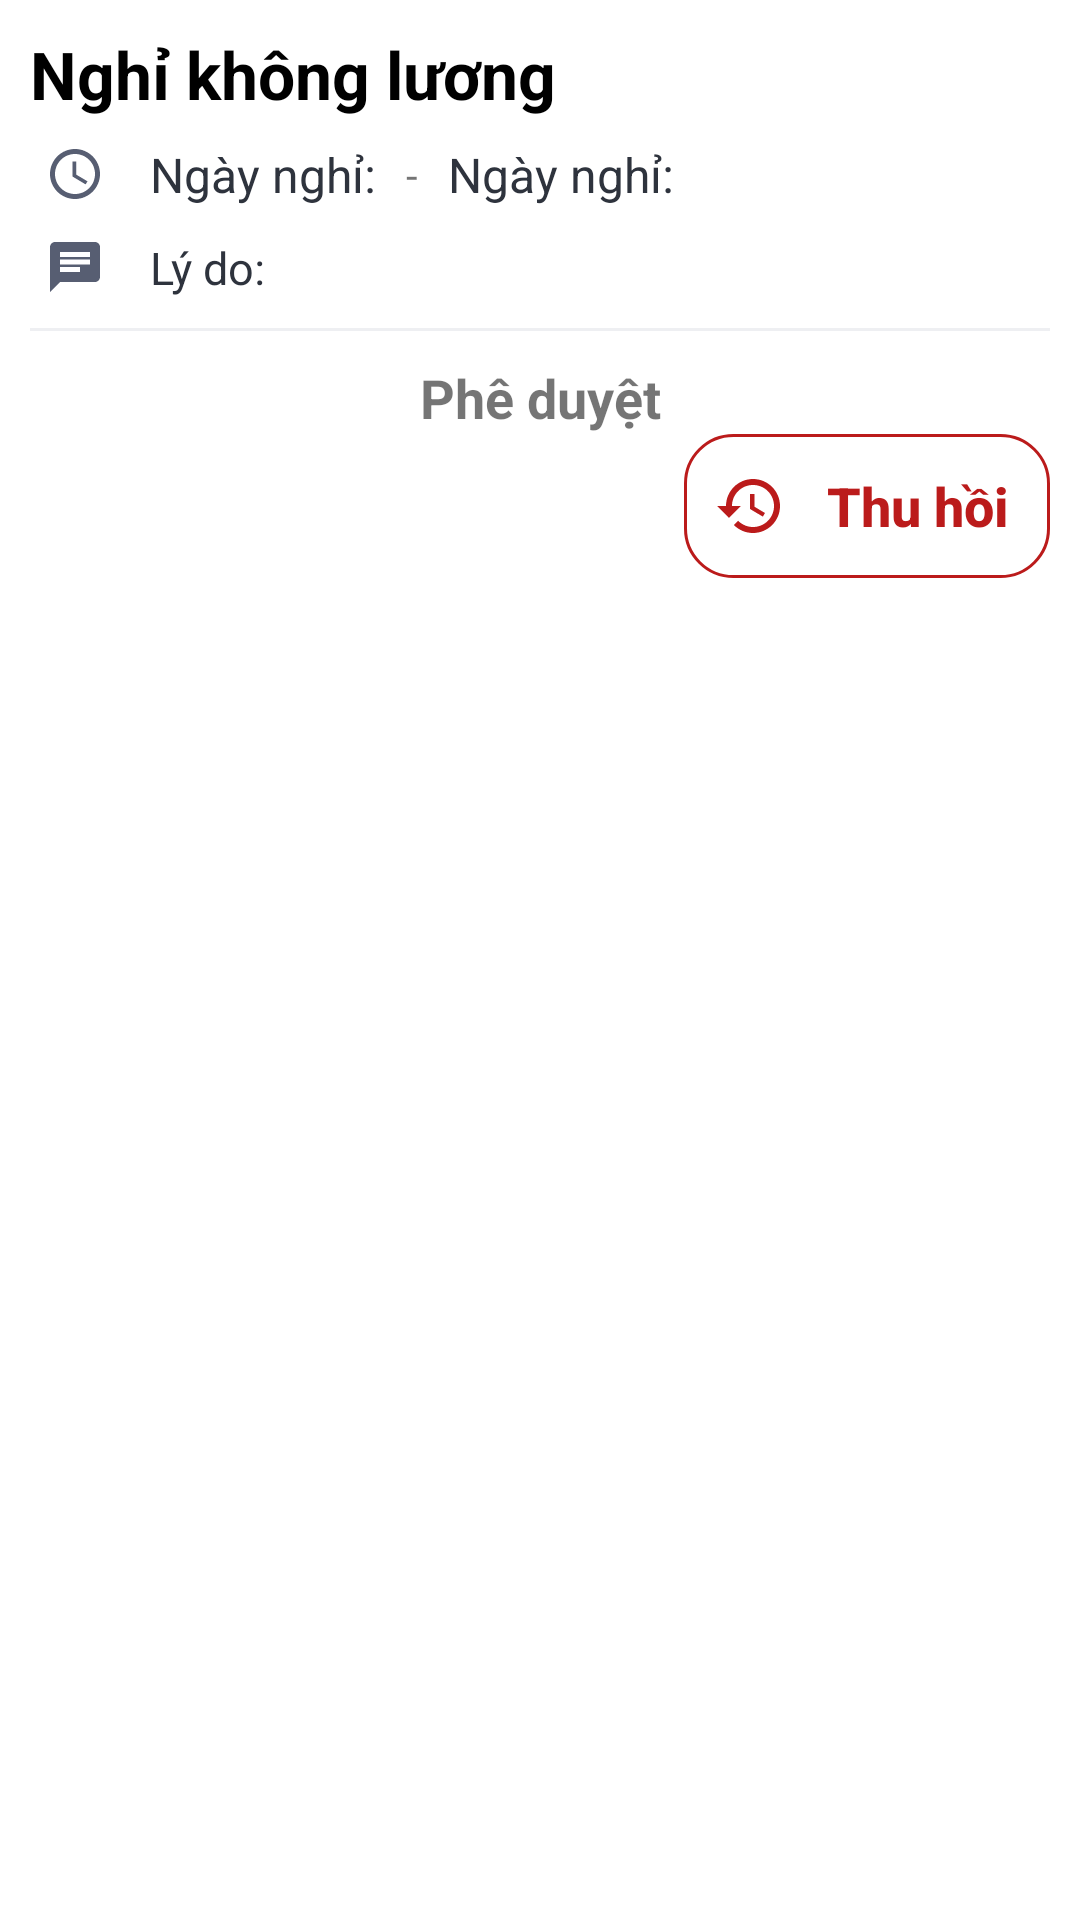

Where icons sit on this 1080x1920 app screen, as [x1, y1, x2, y2]:
access time: [50, 149, 100, 199]
chat: [50, 242, 100, 292]
history: [717, 479, 780, 533]
